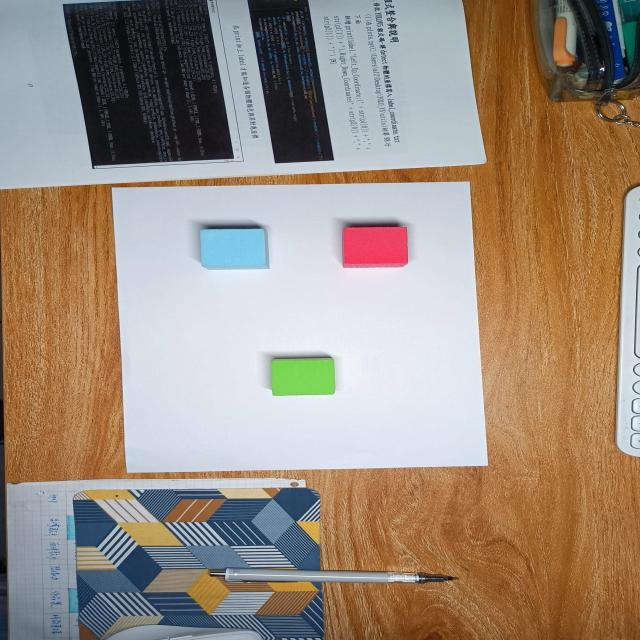BLUE: (200, 229, 270, 270)
GREEN: (272, 357, 336, 396)
RED: (341, 227, 408, 268)
